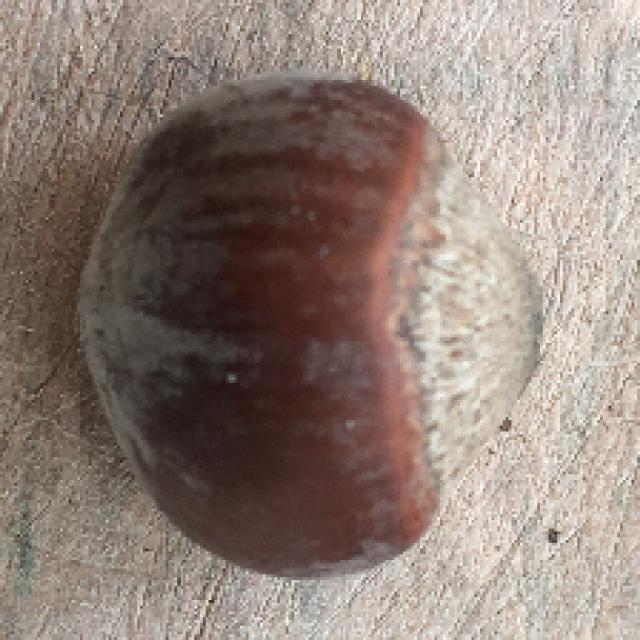damagedHazelnut: (70, 60, 556, 594)
